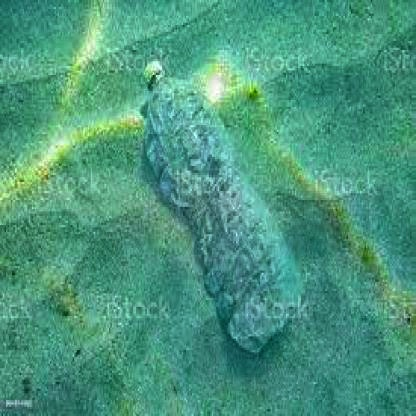pbottle: (133, 52, 310, 359)
